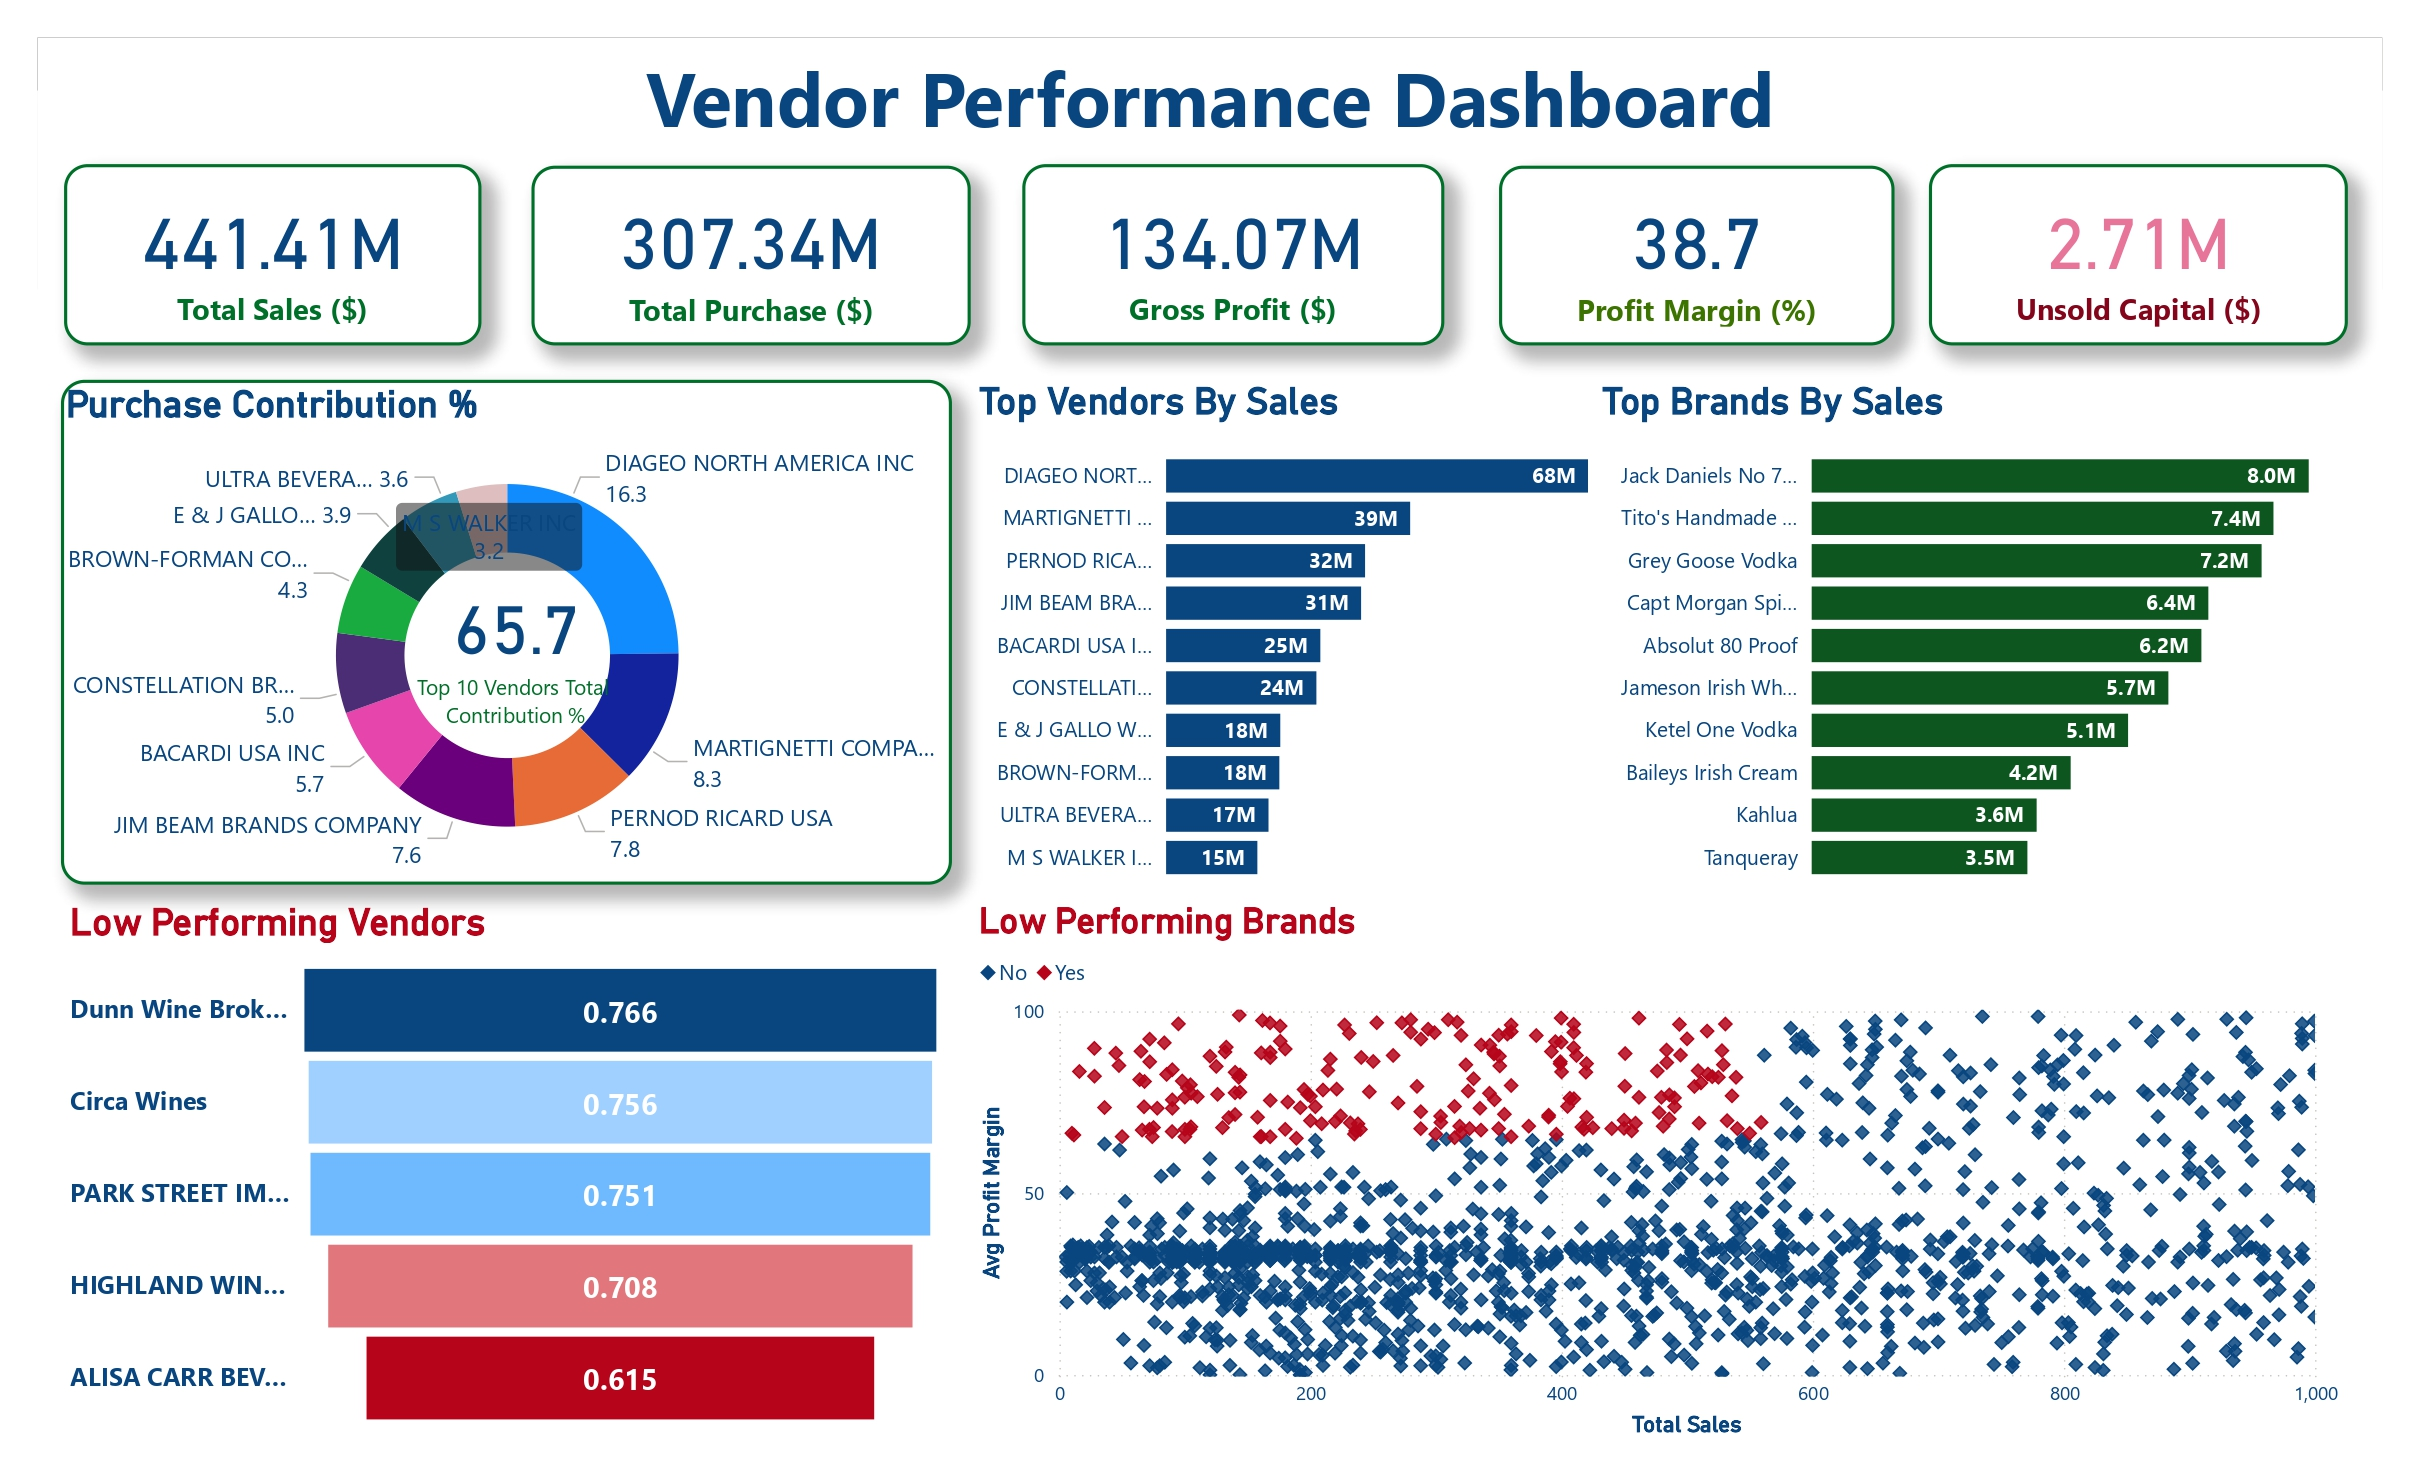

What the dashboard file says about the page in this screenshot:
{"tool":"powerbi","page":{"name":"Page 1","canvas":[1500,900],"ordinal":0},"visuals":[{"type":"card","fields":{"Values":["Sum(vendor_sales_summary.TotalPurchaseDollars)"]},"box":[315.8,82.4,280.9,114.6],"z":0},{"type":"card","fields":{"Values":["Sum(vendor_sales_summary.TotalSalesDollars)"]},"box":[16.8,81,266.9,116],"z":1000},{"type":"card","fields":{"Values":["Sum(vendor_sales_summary.GrossProfit)"]},"box":[630.2,81,269.7,116],"z":2000},{"type":"card","fields":{"Values":["Sum(vendor_sales_summary.ProfitMargin)"]},"box":[934.8,82.4,252.9,114.6],"z":3000},{"type":"card","fields":{"Values":["Sum(vendor_sales_summary.UnsoldCapital)"]},"box":[1210.1,81,268.3,116],"z":4000},{"type":"textbox","box":[0,0,1500,83],"z":5000},{"type":"donutChart","title":"Purchase Contribution % ","fields":{"Category":["PurchaseContribution.VendorName"],"Y":["Sum(PurchaseContribution.PurchaseContribution%)"]},"box":[14.5,219.4,571,322.6],"z":6000},{"type":"card","fields":{"Values":["Sum(PurchaseContribution.PurchaseContribution%)"]},"box":[211.8,266.7,188.2,233.3],"z":7000},{"type":"barChart","title":"Top Vendors By Sales","fields":{"Category":["vendor_sales_summary.VendorName"],"Y":["Sum(vendor_sales_summary.TotalSalesDollars)"]},"box":[597.3,219.2,447.9,332.9],"z":8000},{"type":"barChart","title":"Top Brands By Sales","fields":{"Category":["vendor_sales_summary.Description"],"Y":["Sum(vendor_sales_summary.TotalSalesDollars)"]},"box":[995.9,219.2,504.1,332.9],"z":9000},{"type":"funnel","title":"Low Performing Vendors","fields":{"Category":["LowTurnoverVendor.VendorName"],"Y":["Avg(LowTurnoverVendor.AvgStockTurnOver)"]},"box":[16.1,551.6,569.4,348.4],"z":10000},{"type":"scatterChart","title":"Low Performing Brands","fields":{"X":["Sum(BrandPerformance.TotalSales)"],"Y":["Sum(BrandPerformance.AvgProfitMargin)"],"Series":["BrandPerformance.TargetBrand"],"Category":["BrandPerformance.Description"]},"box":[596.8,551.6,880.6,348.4],"z":11000}]}

Visuals, with their boxes on the page's 1500x900 design canvas (x1, y1, x2, y2). These are canvas units, not pixel positions in the 2420x1482 screenshot, which may show the page scaled, cropped or inside an application window:
card - Sum(vendor_sales_summary.TotalPurchaseDollars): [316,82,597,197]
card - Sum(vendor_sales_summary.TotalSalesDollars): [17,81,284,197]
card - Sum(vendor_sales_summary.GrossProfit): [630,81,900,197]
card - Sum(vendor_sales_summary.ProfitMargin): [935,82,1188,197]
card - Sum(vendor_sales_summary.UnsoldCapital): [1210,81,1478,197]
textbox: [0,0,1500,83]
"Purchase Contribution % " donutChart: [14,219,586,542]
card - Sum(PurchaseContribution.PurchaseContribution%): [212,267,400,500]
"Top Vendors By Sales" barChart: [597,219,1045,552]
"Top Brands By Sales" barChart: [996,219,1500,552]
"Low Performing Vendors" funnel: [16,552,586,900]
"Low Performing Brands" scatterChart: [597,552,1477,900]
